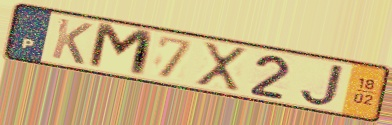2: (245, 51, 297, 103)
7: (154, 34, 196, 81)
J: (297, 62, 348, 108)
K: (48, 16, 95, 67)
M: (85, 20, 157, 80)
X: (195, 40, 249, 94)
